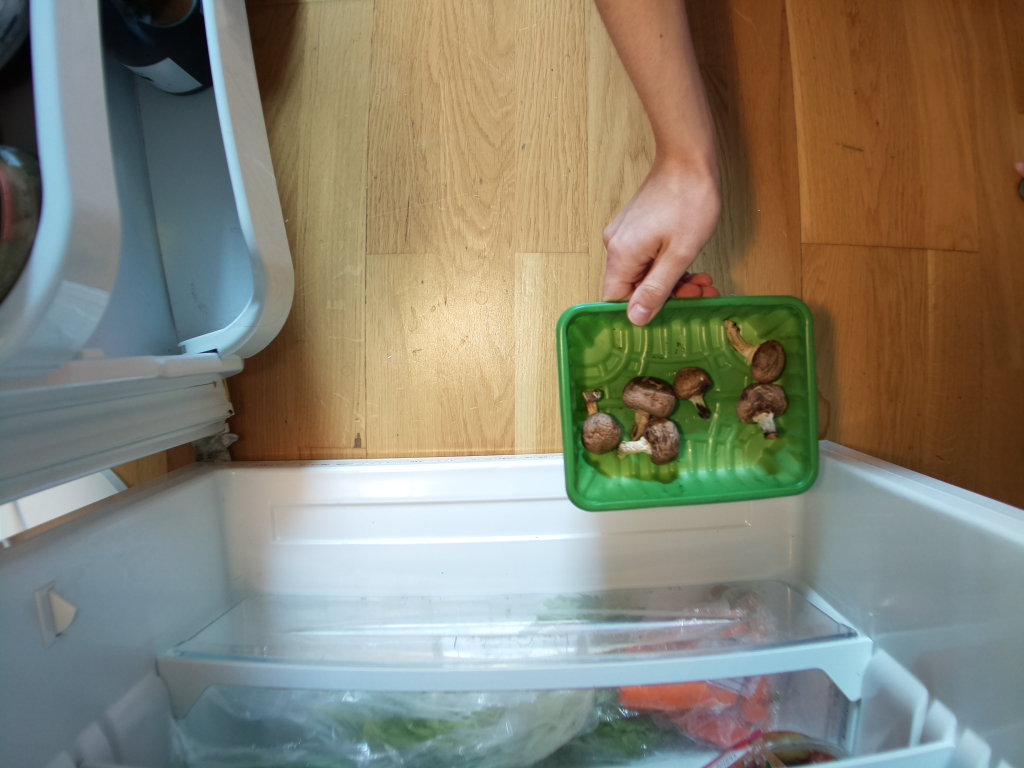mushrooms-bad: (557, 297, 827, 514)
